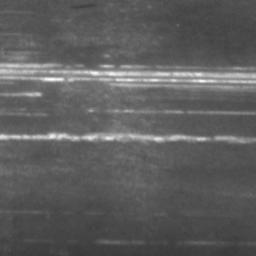Bright scratch: (0, 61, 256, 86), (0, 131, 256, 145), (0, 92, 44, 99)
